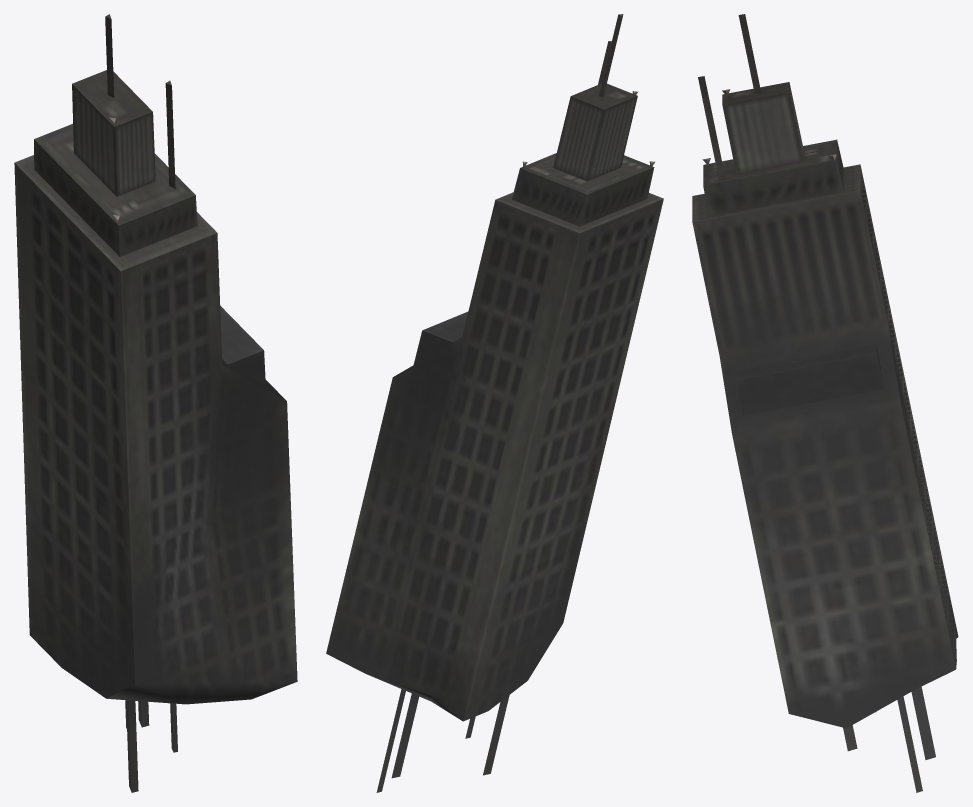
Rendered from skyBuildingAAB_pos_grp (2).fbx.
The picture shows the model from 3 angles, left to right: view 1: azimuth 30°, elevation 25°; view 2: azimuth 150°, elevation 25°; view 3: azimuth 270°, elevation 25°; orthographic projection. The views are drawn at different scales.
Parts seen in each view (by area): view 1: skyBuildingAAB_geo; view 2: skyBuildingAAB_geo; view 3: skyBuildingAAB_geo.
Boxes of the visible parts, x1=… form: skyBuildingAAB_geo: x1=14, y1=14, x2=297, y2=792; skyBuildingAAB_geo: x1=326, y1=14, x2=663, y2=792; skyBuildingAAB_geo: x1=692, y1=14, x2=958, y2=792.
Bounding box in the file's own units: 4.17 × 14.07 × 4.79.
